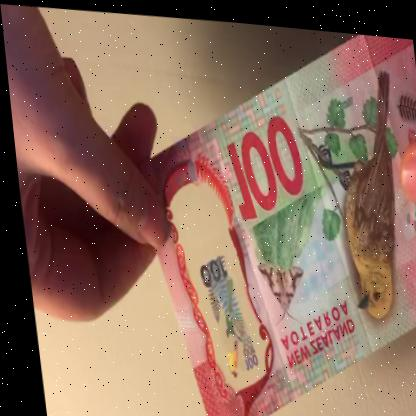100B: (186, 228, 254, 384)
